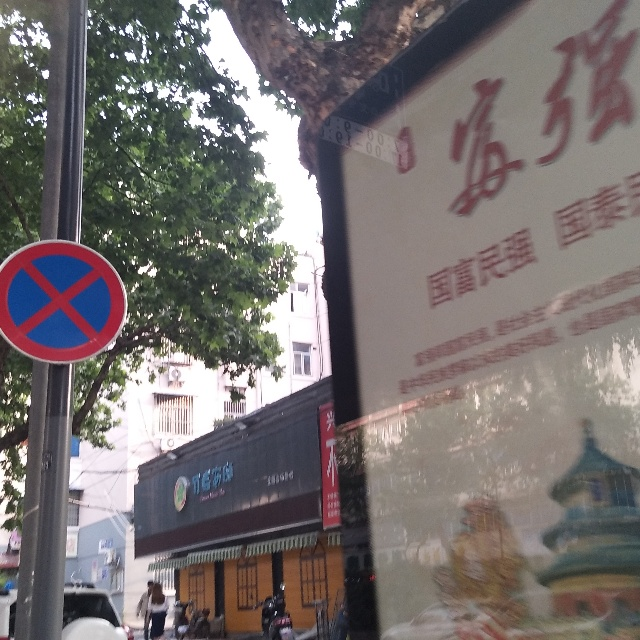stop: (7, 248, 119, 355)
